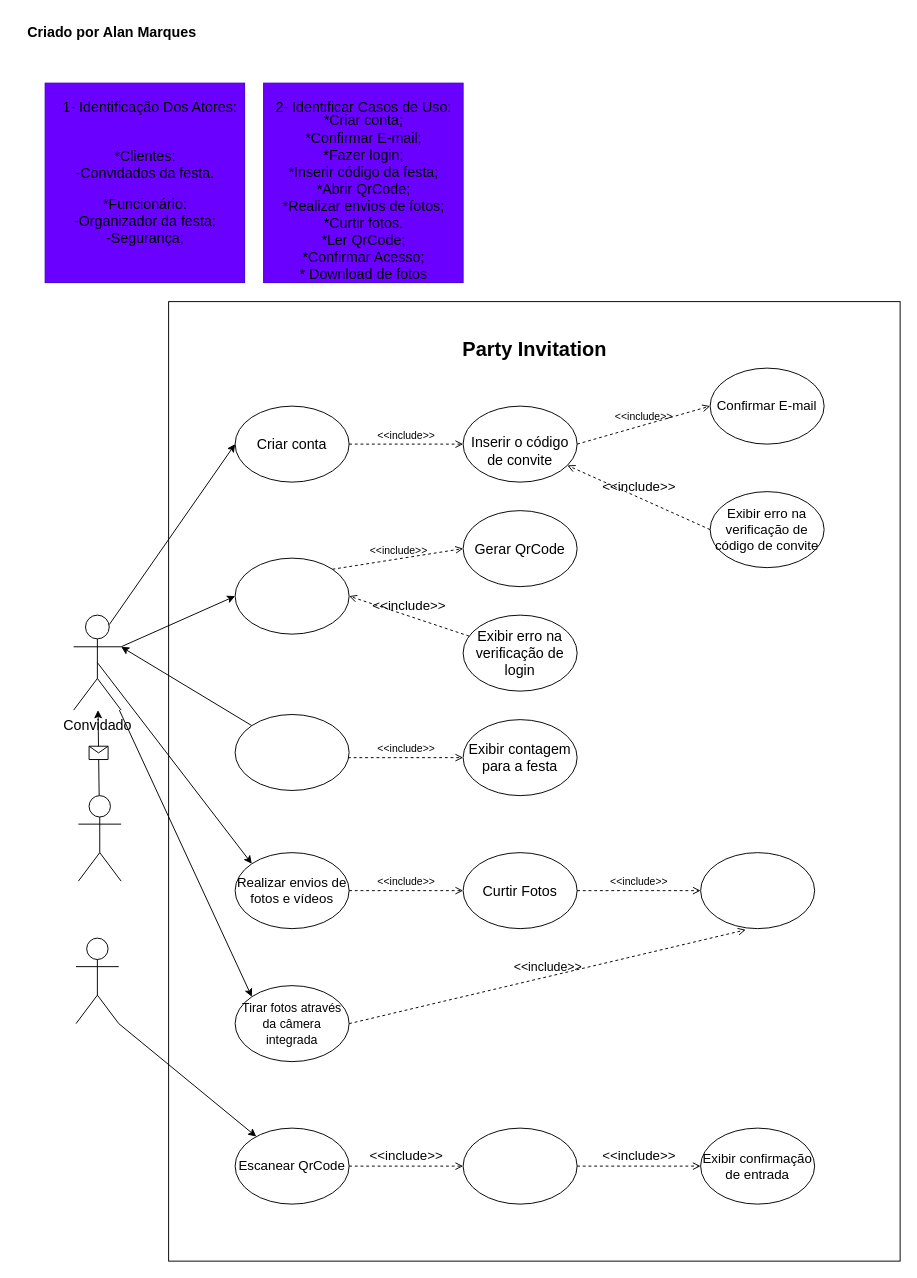
The diagram is 917 pixels wide and 1278 high, and some of its shapes have lost their labels. The shapes that lost their labels are listed below. From the top down, each one's centre as x and y in pixels, then its label:
[291,595]: Fazer Login
[291,752]: Mostrar notificações
[99,838]: Dono Da Festa
[757,890]: Download de fotos
[97,980]: Segurança
[519,1165]: Verificar QrCode
